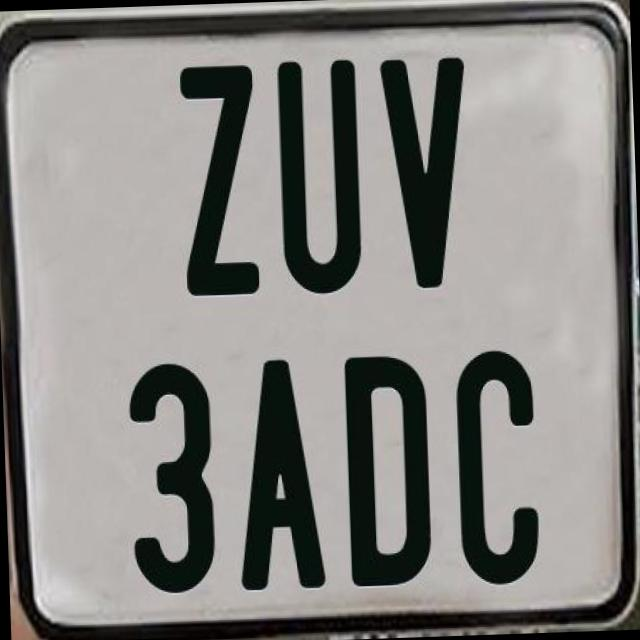3: (127, 357, 220, 597)
A: (232, 355, 327, 589)
C: (454, 348, 542, 592)
D: (342, 352, 434, 592)
U: (276, 59, 363, 304)
V: (378, 55, 476, 297)
Z: (178, 60, 264, 292)
